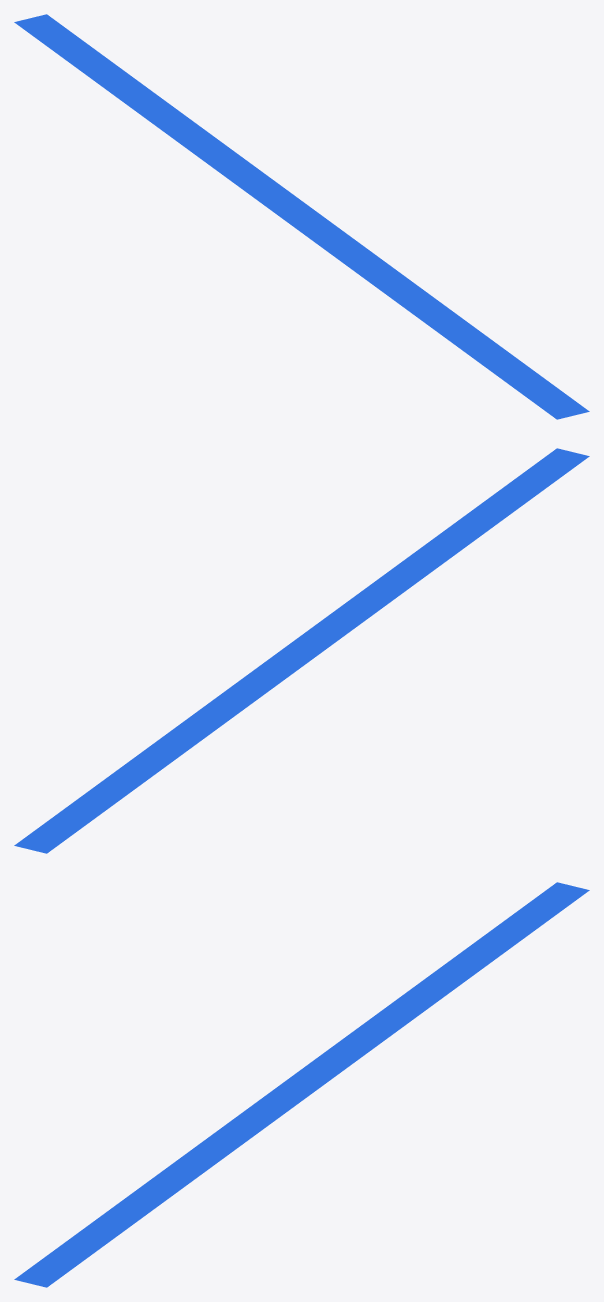
The picture shows the model from 3 angles, top to bottom: view 1: azimuth 30°, elevation 25°; view 2: azimuth 150°, elevation 25°; view 3: azimuth 330°, elevation 25°; orthographic projection.
Parts seen in each view (by area): view 1: Line; view 2: Line; view 3: Line.
Boxes of the visible parts, left/top/right/bottom form: Line: left=14, top=14, right=589, bottom=419; Line: left=14, top=448, right=589, bottom=853; Line: left=14, top=882, right=589, bottom=1287.
Bounding box in the file's own units: 0.3247 × 0 × 9.29.
Materials: 1 (1 with a texture image).
